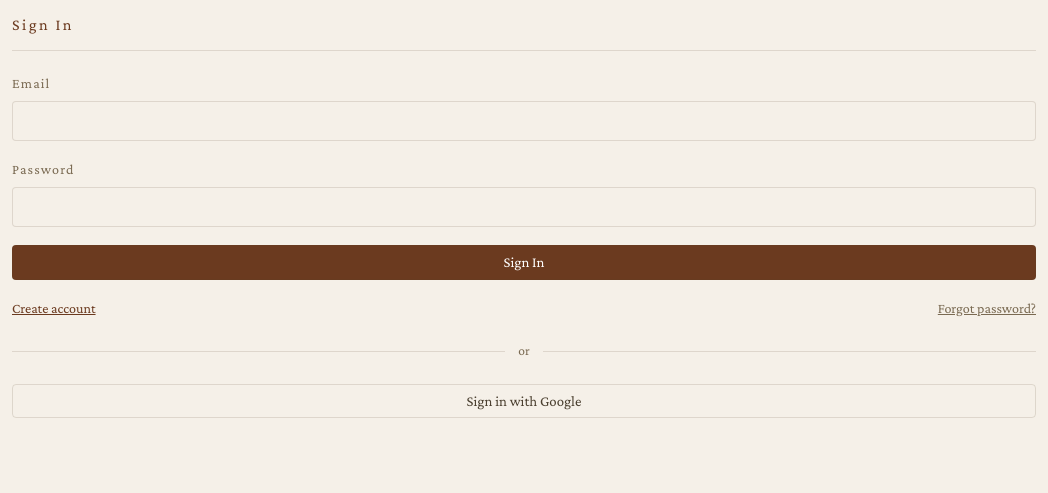
Scenario: LoginForm › shows generic error when login rejects with non-Error
The image size is (1048, 493).
In the field: (524, 121) [12, 101, 1036, 141], type "test@example.com"
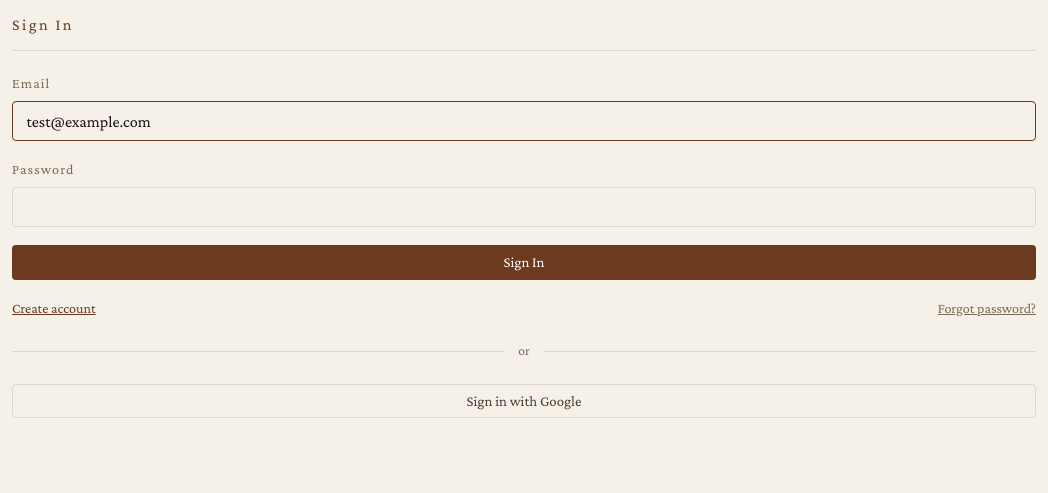
In the password field: (524, 207) [12, 187, 1036, 228], type "pass"
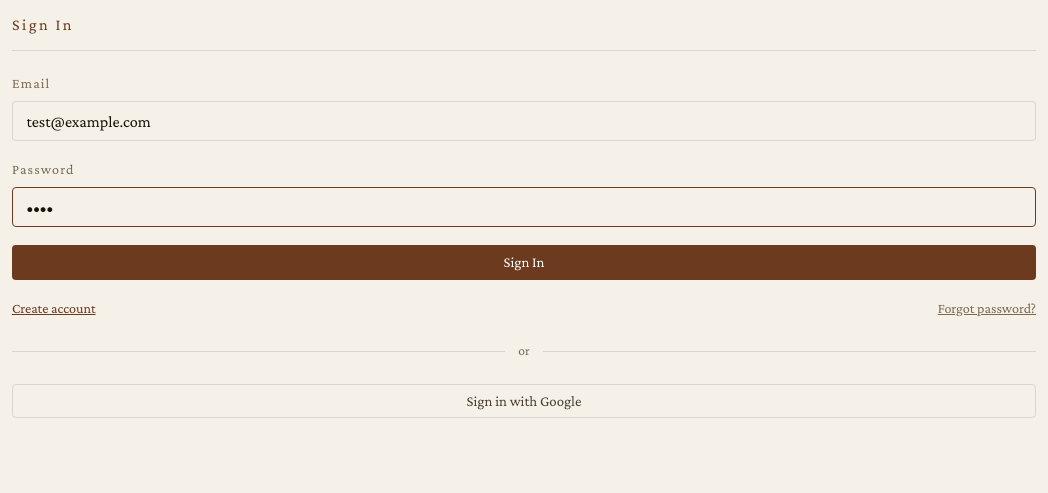
Click the button "Sign In": (524, 263) [12, 246, 1036, 280]
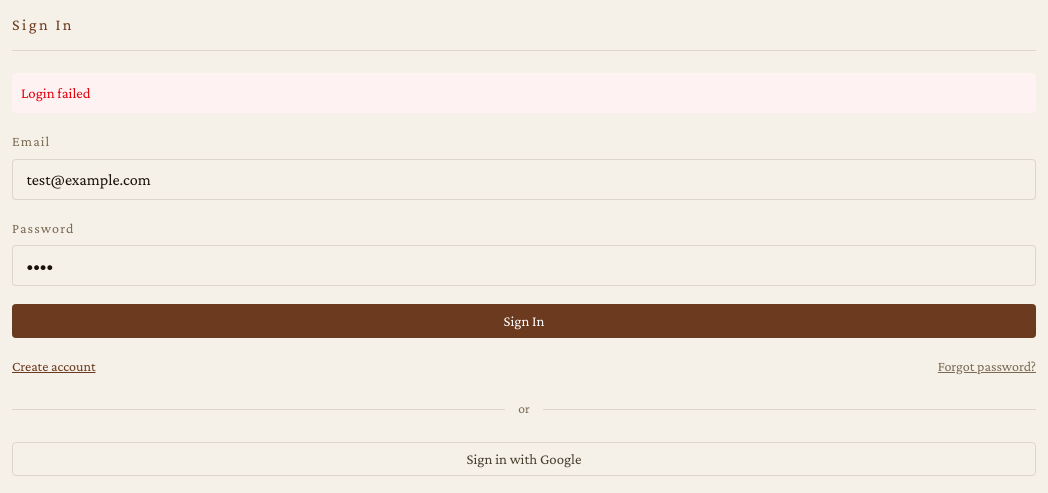
Check: the text "Login failed" is shown, box [12, 73, 1036, 113]
